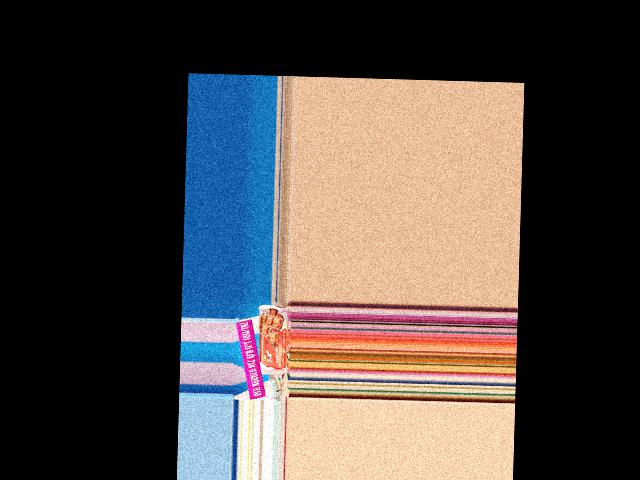chocolate: (255, 303, 289, 376)
